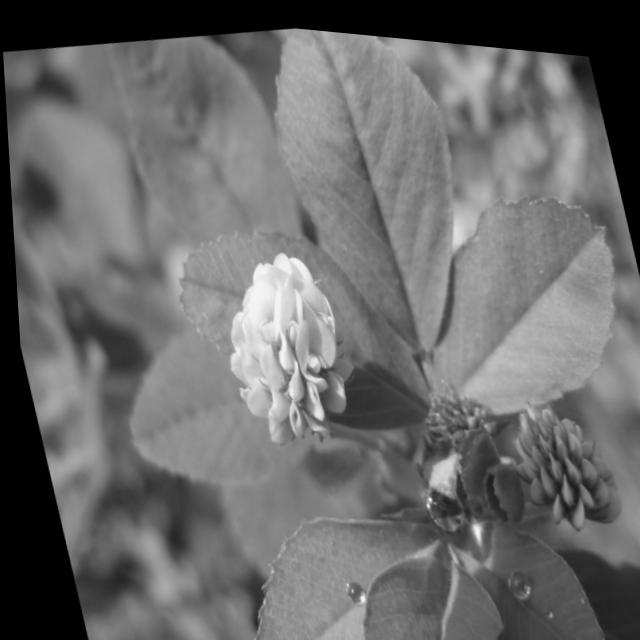Flower: (188, 210, 378, 457)
